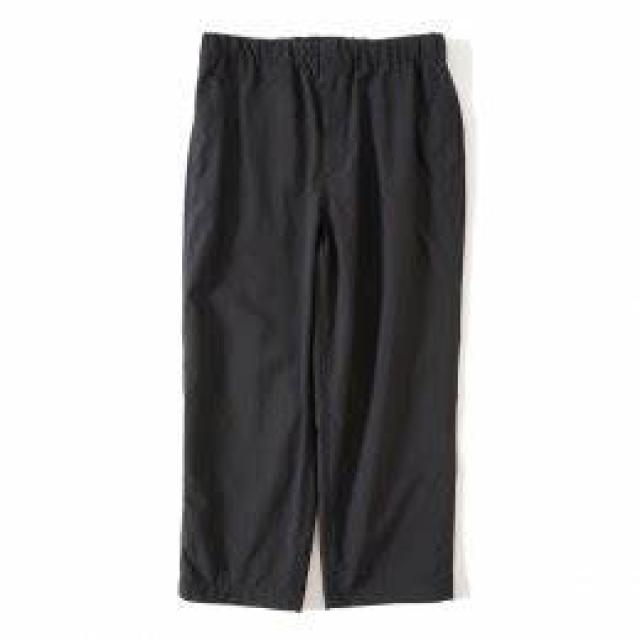long-pants: (172, 31, 466, 615)
